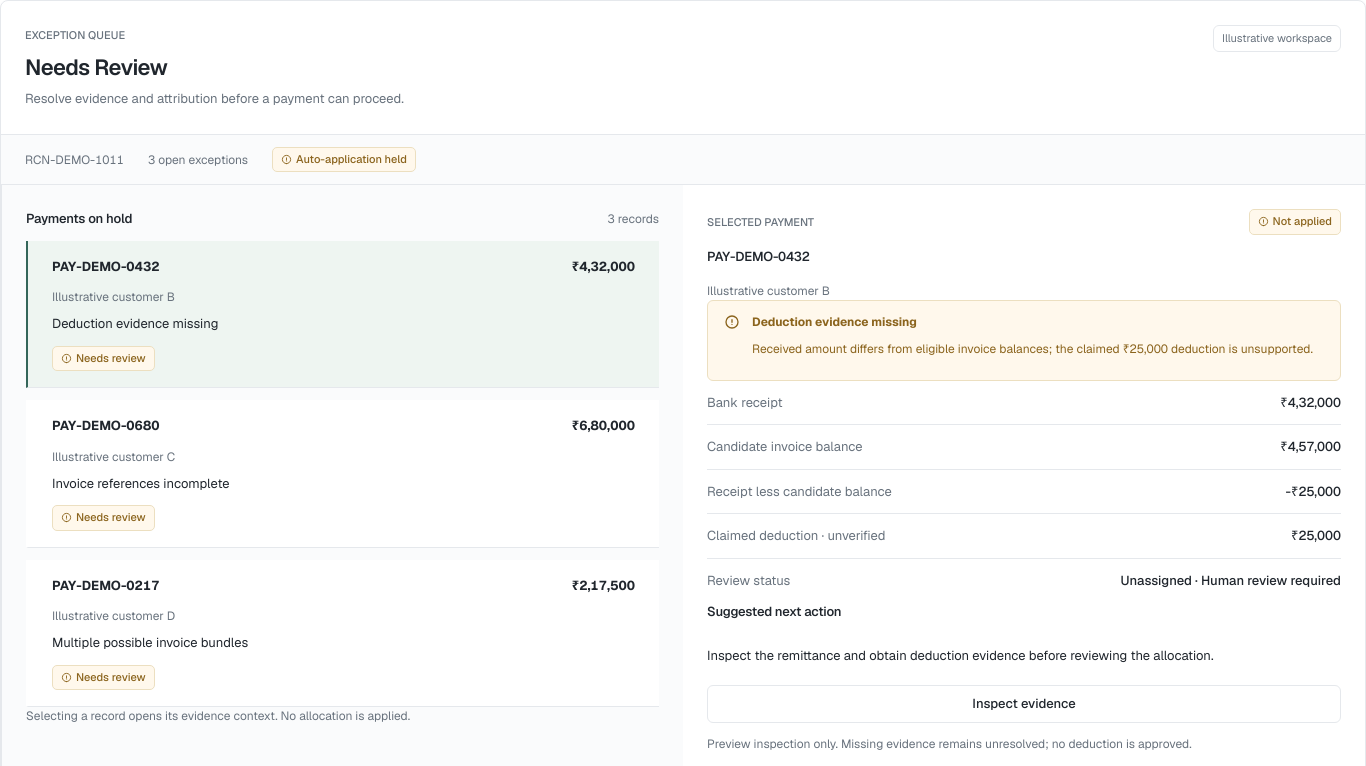
Test: exception review screen › does not invent zero variance when invoice references are incomplete
Click the button with aria-label "Inspect PAY-DEMO-0680". click: (106, 426)
box: [26,400,659,548]
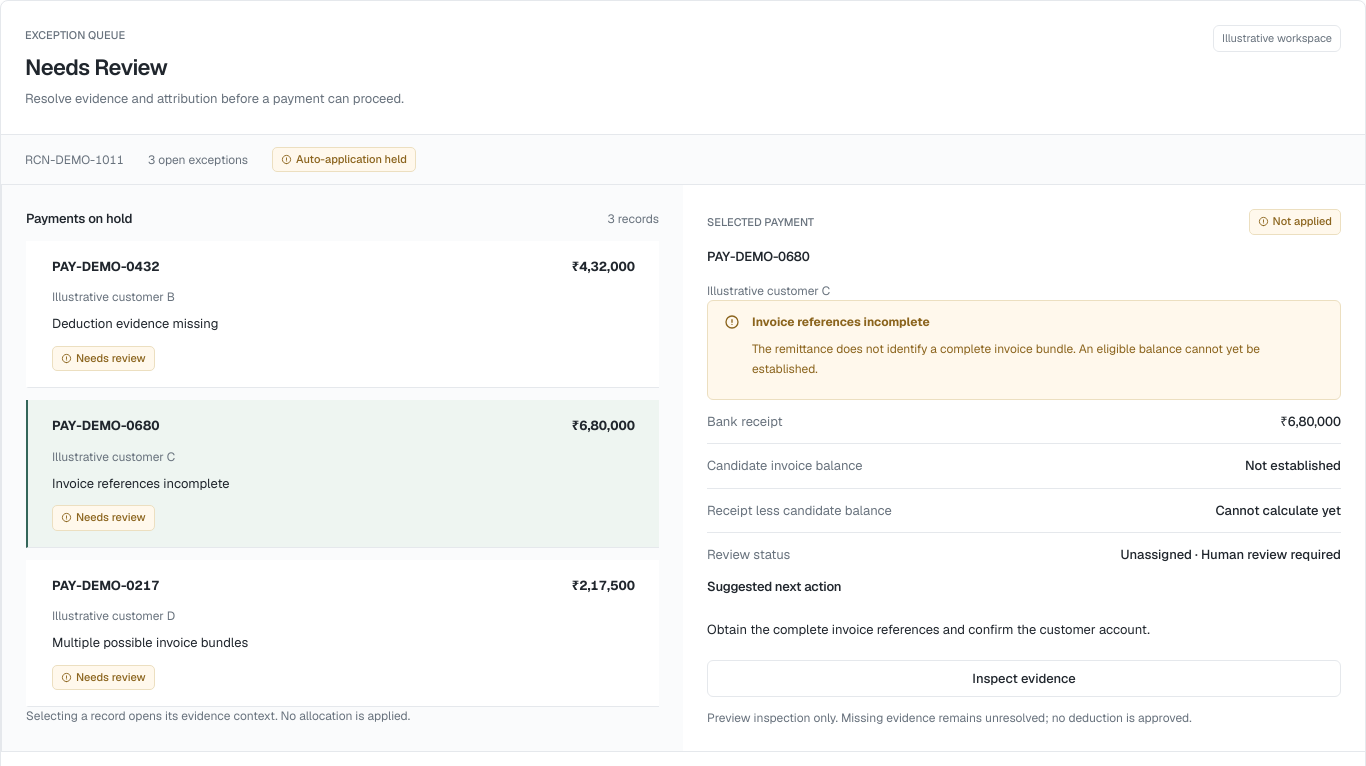
Expected: the element named "Selected exception" does not show "₹0", [683,185,1365,751]
Result: the element named "Selected exception" shows "Not established" at [1245,457,1341,474]
Result: the element named "Selected exception" shows "Cannot calculate yet" at [1215,502,1341,519]
